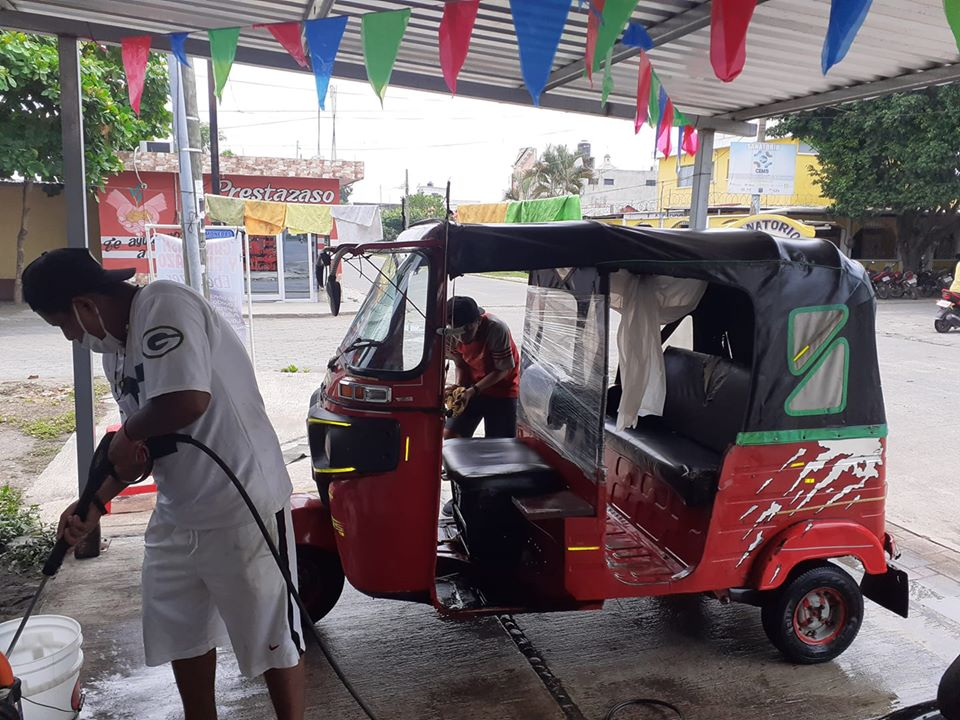mototaxi: (300, 211, 921, 652)
